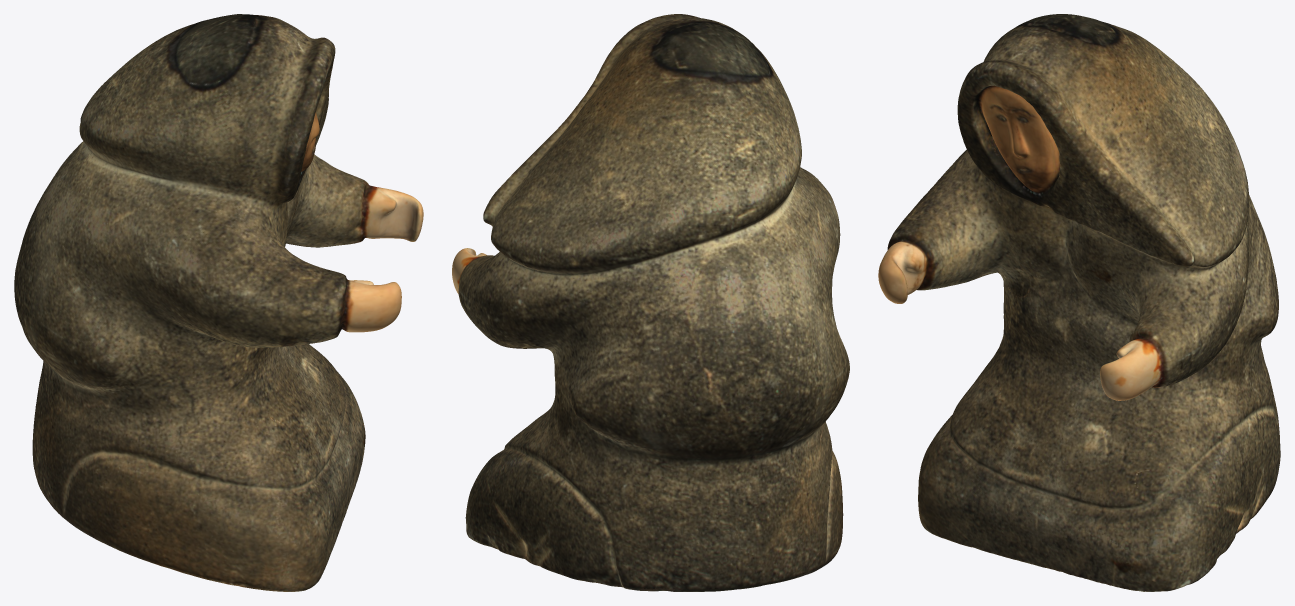
The picture shows the model from 3 angles, left to right: view 1: azimuth 30°, elevation 25°; view 2: azimuth 150°, elevation 25°; view 3: azimuth 270°, elevation 25°; orthographic projection. The views are drawn at different scales.
Parts seen in each view (by area): view 1: Node; view 2: Node; view 3: Node.
Boxes of the visible parts, <box> form: Node: <box>14,14,423,591</box>; Node: <box>452,14,849,591</box>; Node: <box>878,14,1280,591</box>.
Size of the model in its own units: 127 by 166 by 119.
1 material, 1 textured.
